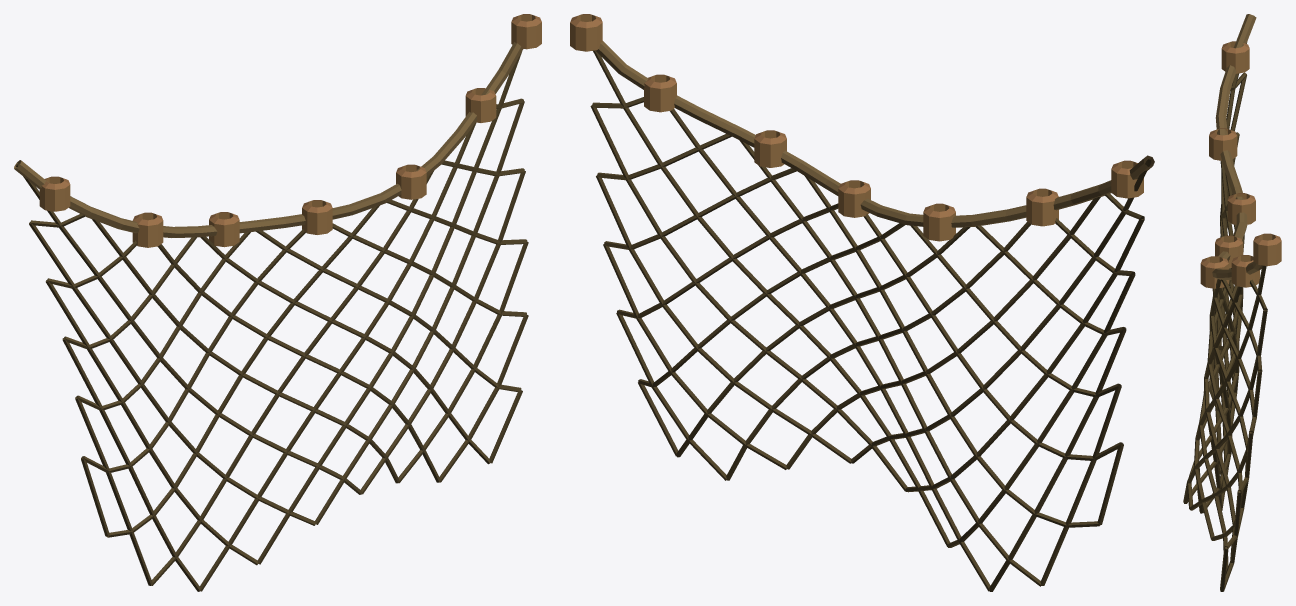
File: cork_seine.glb
3 renders of one model, left to right at view 1: azimuth 30°, elevation 25°; view 2: azimuth 150°, elevation 25°; view 3: azimuth 270°, elevation 25°, orthographic. The views are drawn at different scales.
Parts seen in each view (by area): view 1: cork_seine; view 2: cork_seine; view 3: cork_seine.
Part boxes in pixels (x1=…): cork_seine: x1=14, y1=14, x2=541, y2=591; cork_seine: x1=570, y1=14, x2=1154, y2=591; cork_seine: x1=1183, y1=14, x2=1281, y2=591.
Size of the model in its own units: 1.79 by 1.5 by 0.3081.
